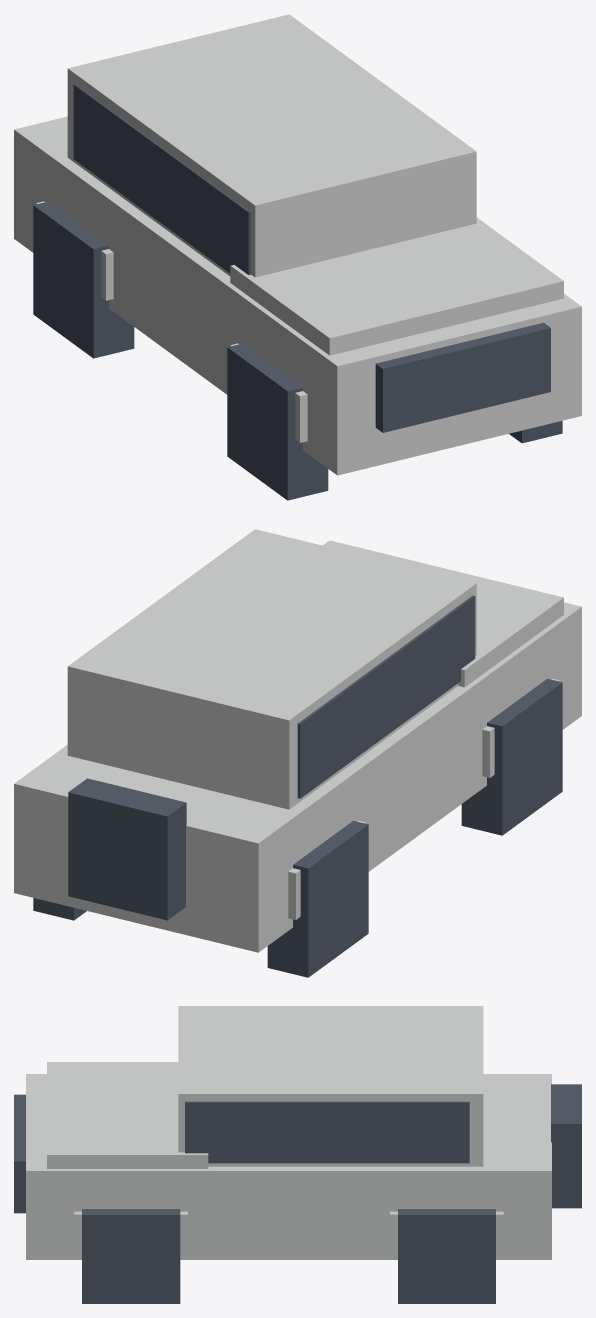
The model's file is prado.glb.
The picture shows the model from 3 angles, top to bottom: view 1: azimuth 30°, elevation 25°; view 2: azimuth 150°, elevation 25°; view 3: azimuth 270°, elevation 25°; orthographic projection. The views are drawn at different scales.
Parts seen in each view (by area): view 1: Body_Exterior_Paint, Rims_Wheels_Interior_Engine; view 2: Body_Exterior_Paint, Rims_Wheels_Interior_Engine; view 3: Body_Exterior_Paint, Rims_Wheels_Interior_Engine.
Boxes of the visible parts, <box> form: Body_Exterior_Paint: <box>14,14,581,475</box>; Rims_Wheels_Interior_Engine: <box>33,84,562,500</box>; Body_Exterior_Paint: <box>14,529,581,952</box>; Rims_Wheels_Interior_Engine: <box>33,595,562,977</box>; Body_Exterior_Paint: <box>26,1006,551,1259</box>; Rims_Wheels_Interior_Engine: <box>14,1084,581,1303</box>.
Bounding box in the file's own units: 2.16 × 1.84 × 4.75.
